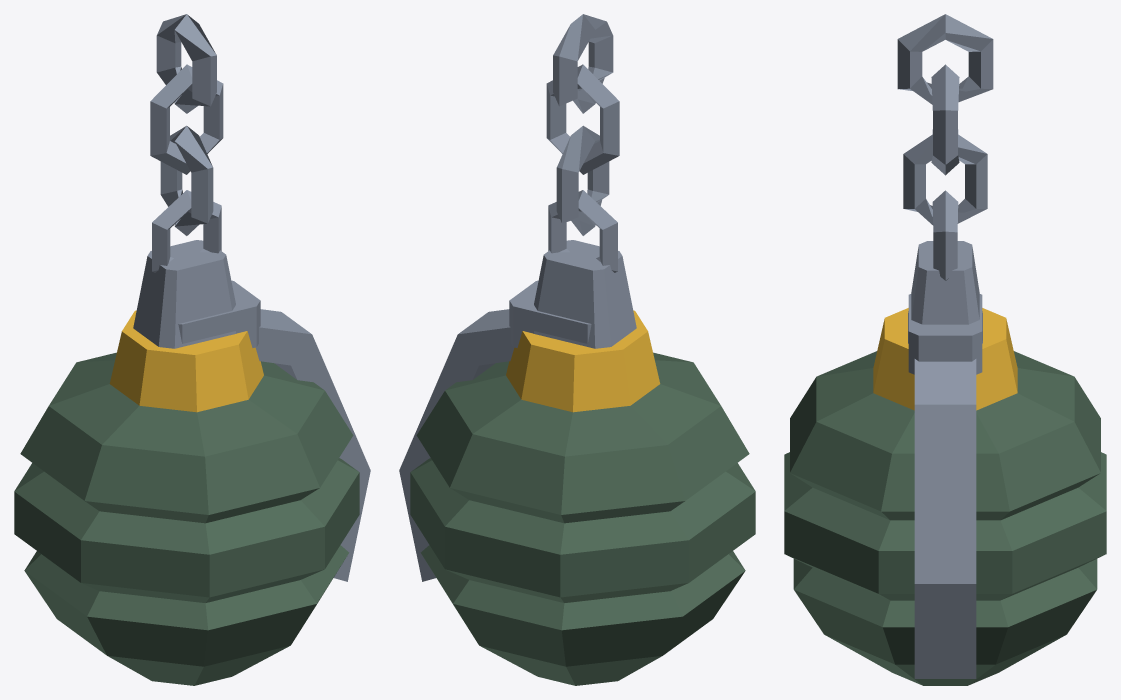
Rendered from FragGrenade.fbx.
3 views of the same model, side by side, from view 1: azimuth 30°, elevation 25°; view 2: azimuth 150°, elevation 25°; view 3: azimuth 270°, elevation 25° (orthographic).
Parts seen in each view (by area): view 1: Body_Grenade_Olive, Body_Chain_Metal, Chain, Body_Grenade_Brass; view 2: Body_Grenade_Olive, Body_Chain_Metal, Chain, Body_Grenade_Brass; view 3: Body_Grenade_Olive, Body_Chain_Metal, Chain, Body_Grenade_Brass.
Part boxes in pixels (x1=…): Body_Grenade_Olive: x1=14, y1=352, x2=359, y2=685; Body_Chain_Metal: x1=133, y1=190, x2=370, y2=581; Chain: x1=150, y1=14, x2=223, y2=235; Body_Grenade_Brass: x1=109, y1=310, x2=263, y2=412; Body_Grenade_Olive: x1=410, y1=352, x2=755, y2=685; Body_Chain_Metal: x1=399, y1=190, x2=636, y2=581; Chain: x1=546, y1=14, x2=619, y2=235; Body_Grenade_Brass: x1=506, y1=310, x2=660, y2=412; Body_Grenade_Olive: x1=784, y1=351, x2=1106, y2=685; Body_Chain_Metal: x1=908, y1=190, x2=982, y2=678; Chain: x1=897, y1=14, x2=993, y2=225; Body_Grenade_Brass: x1=873, y1=308, x2=1017, y2=410.
Bounding box in the file's own units: 0.1735 × 0.3489 × 0.1571.
